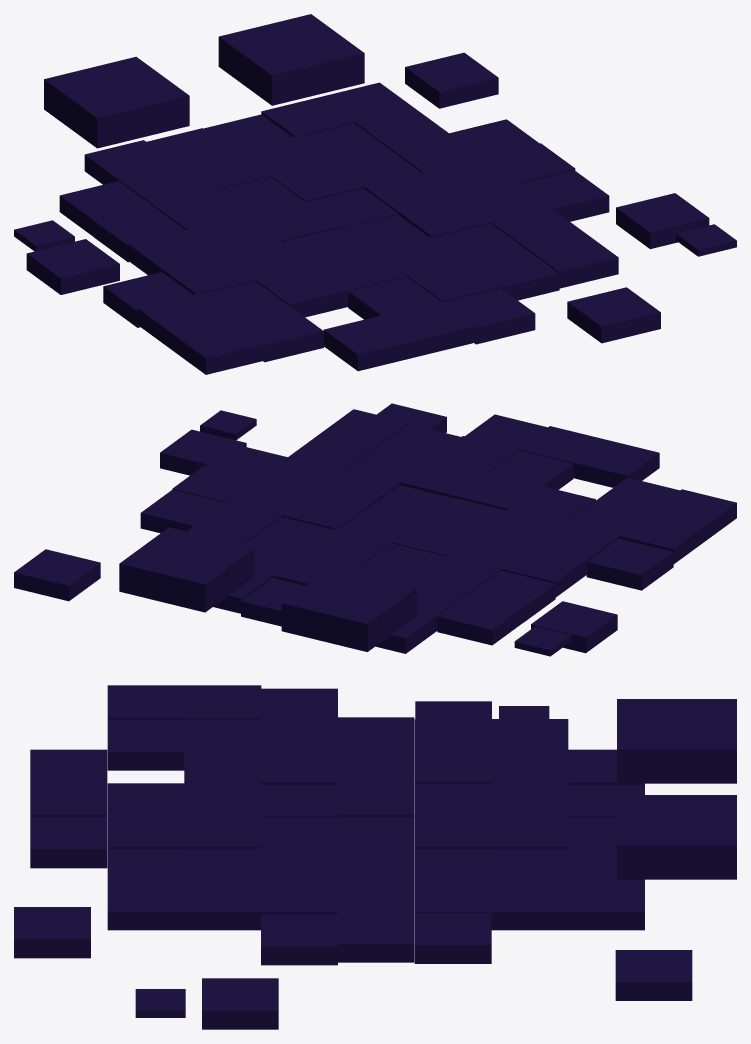
The model's file is Lab0.fbx.
The picture shows the model from 3 angles, top to bottom: view 1: azimuth 30°, elevation 25°; view 2: azimuth 150°, elevation 25°; view 3: azimuth 270°, elevation 25°; orthographic projection. The views are drawn at different scales.
Visible parts, largest first — view 1: Cube.015; view 2: Cube.015; view 3: Cube.015.
Boxes of the visible parts, box(x1,y1,x2,y2) form: Cube.015: box(14, 14, 736, 374); Cube.015: box(14, 403, 736, 656); Cube.015: box(14, 685, 736, 1029).
Size of the model in its own units: 1021 by 152 by 1027.
